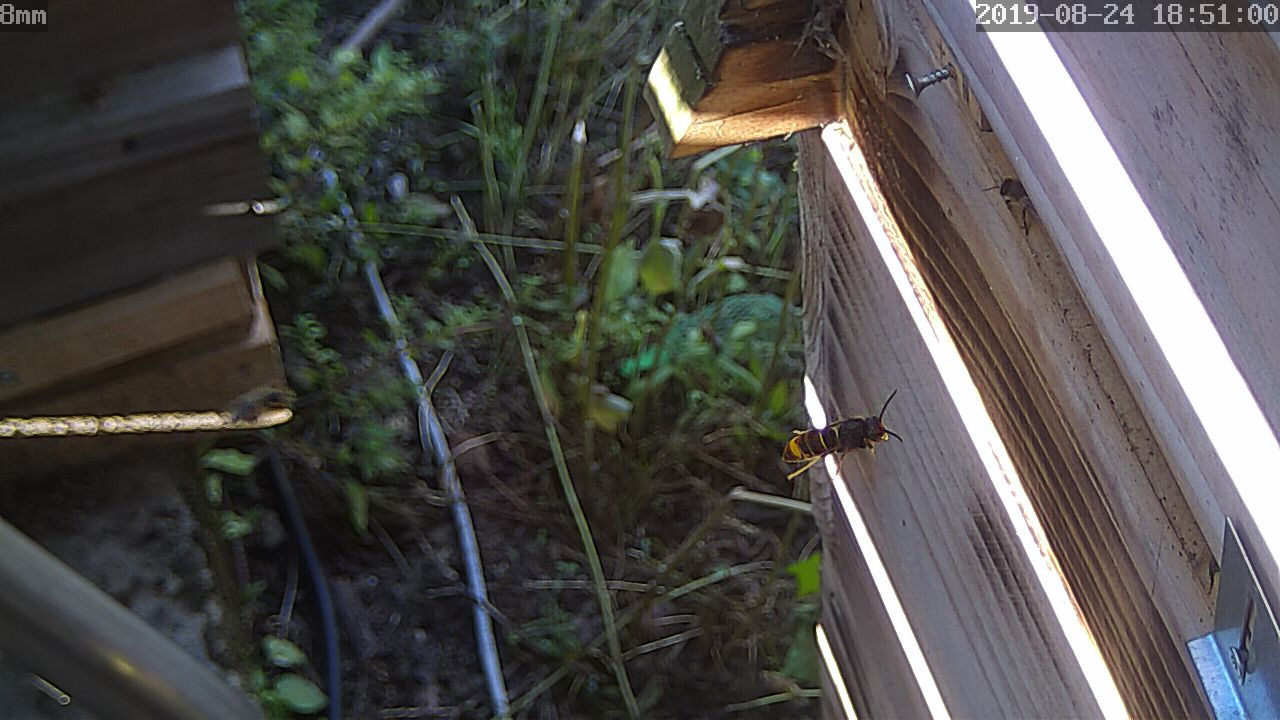bee: (984, 164, 1044, 223)
hornet: (780, 404, 897, 472)
